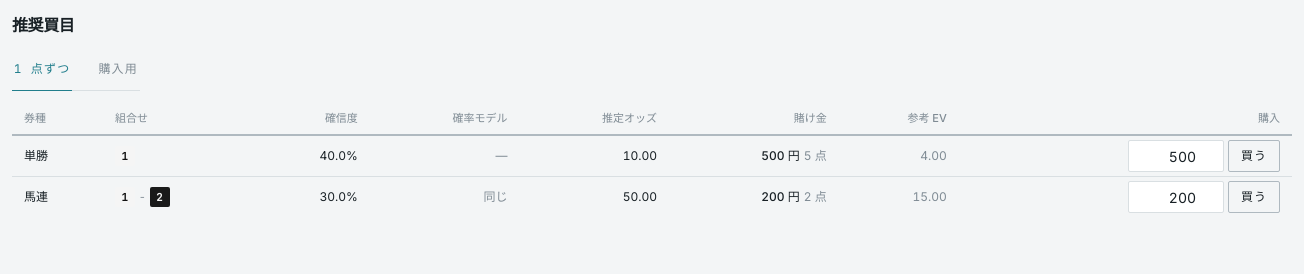
Scenario: RecommendationsCard › 購入用タブは賭ける点だけを合計する (stake=0 は入れない)
Step 1. Click the tab "購入用" → (118, 71), box [96,52,140,90]
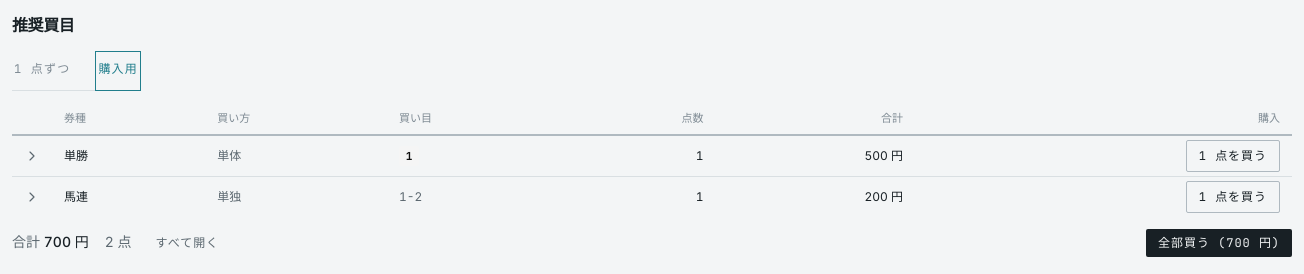
Check: the text "2 点" is shown, box [105,231,132,252]
Check: the text "700 円" is shown, box [44,233,89,250]
